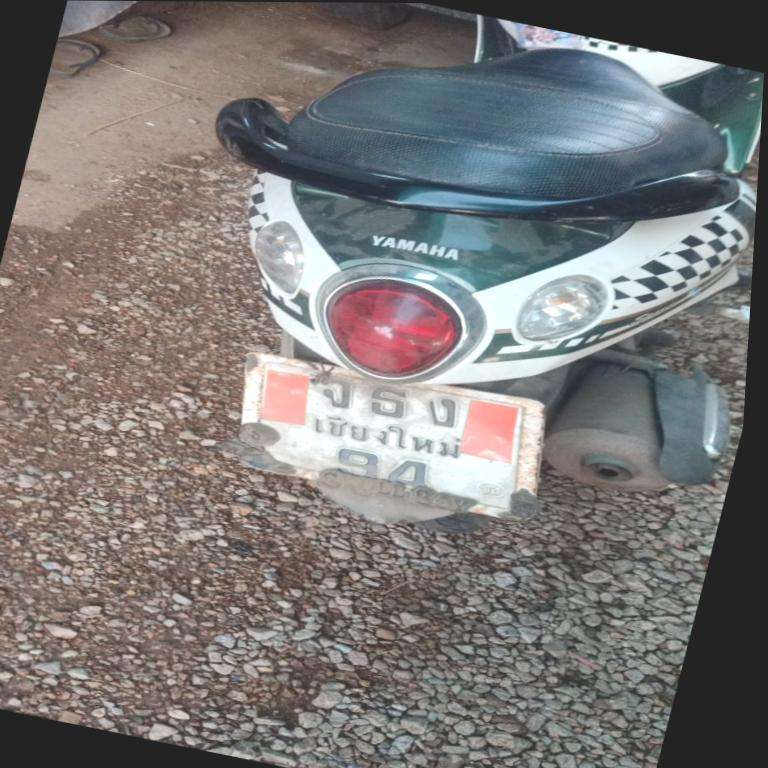license plate: (214, 341, 567, 532)
